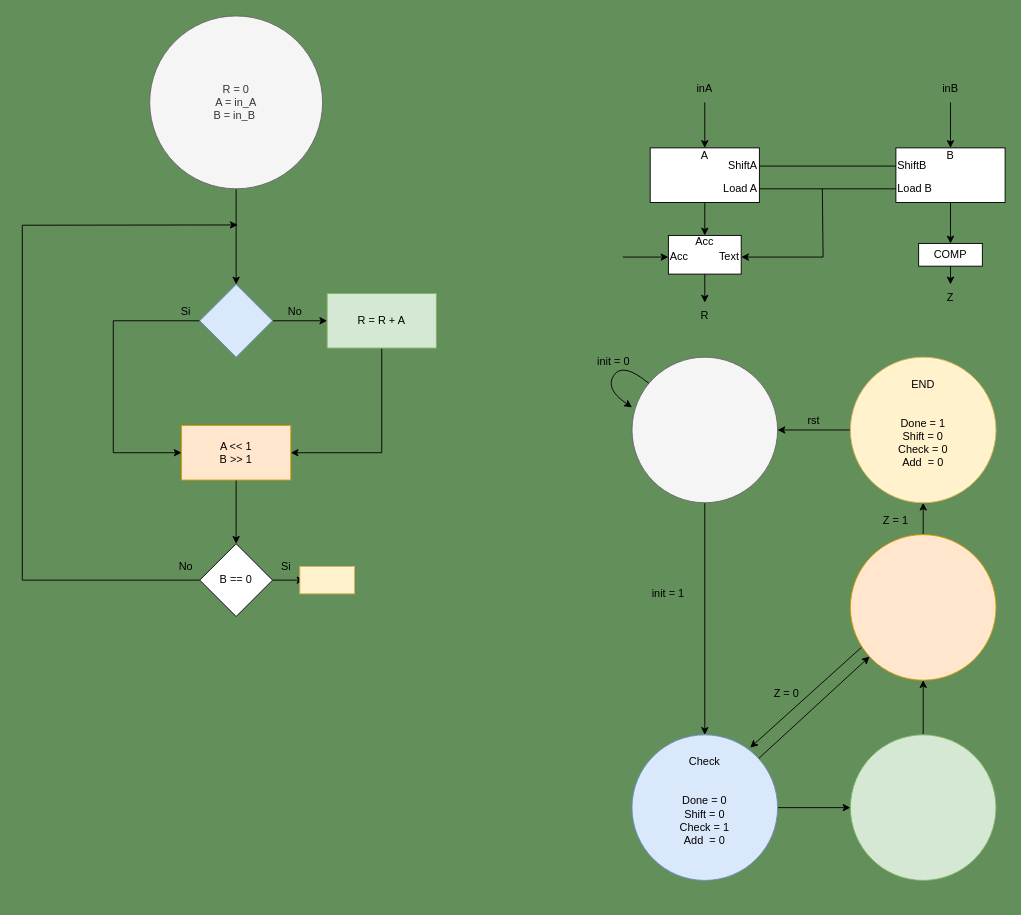
Some shapes in this 1021 by 915 pixel diagram are drawn without their labels. Each missing label, with the centre of its shape:
Add Done = 0 Shift = 0 Check = 0 Add = 1: [922,807]
END: [326,580]
LSB(B)==0: [236,320]
Shift Done = 0 Shift = 0 Check = 0 Add = 1: [922,607]
START Done = 0 Shift = 0 Check = 0 Add = 0: [704,429]
